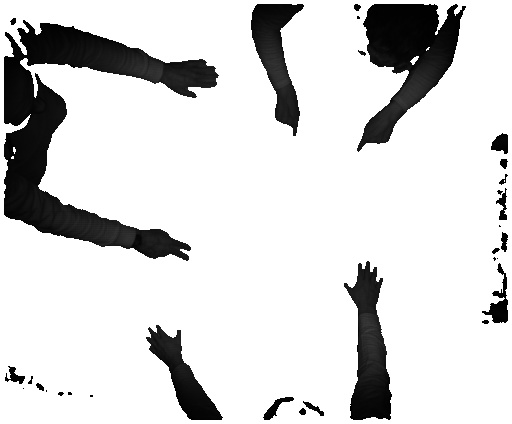hand: (166, 58, 223, 103), (344, 256, 383, 311), (144, 320, 185, 366), (139, 227, 191, 263), (352, 112, 396, 151), (272, 98, 303, 135)
